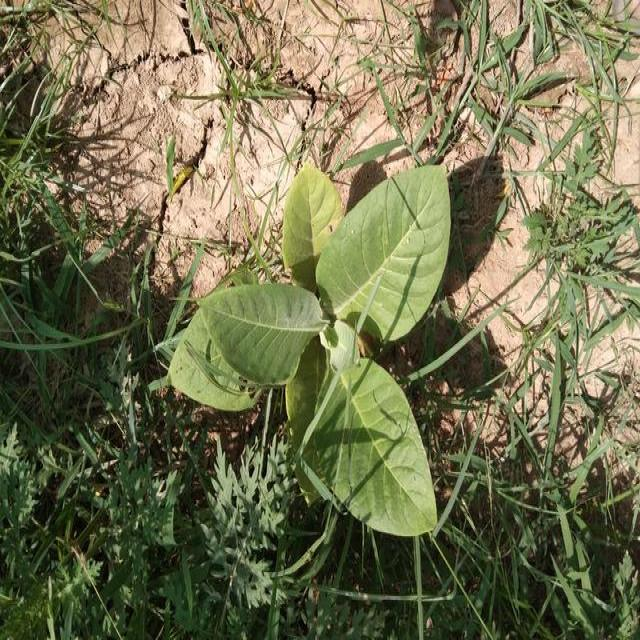crop: (166, 160, 450, 533)
